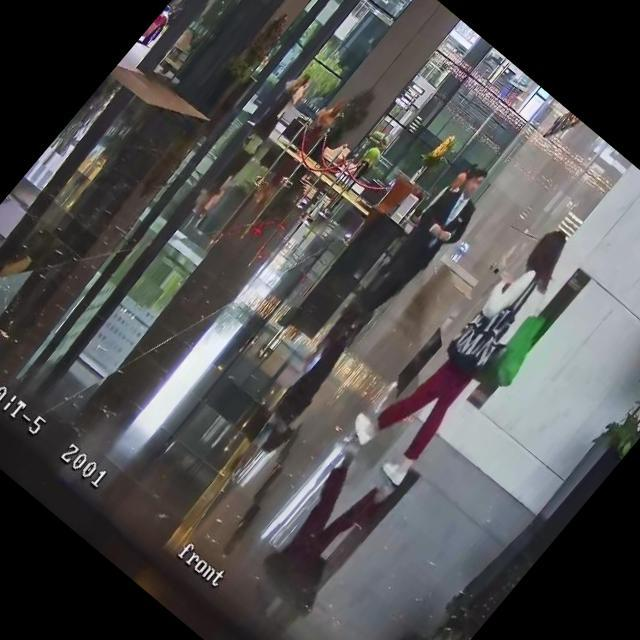person: (337, 207, 590, 488), (334, 156, 505, 347), (373, 167, 472, 280), (238, 66, 316, 154), (338, 139, 389, 196), (300, 90, 350, 144)
